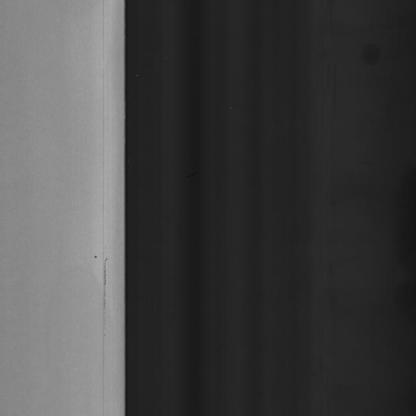inclusion: (101, 249, 110, 378), (92, 249, 99, 265)
